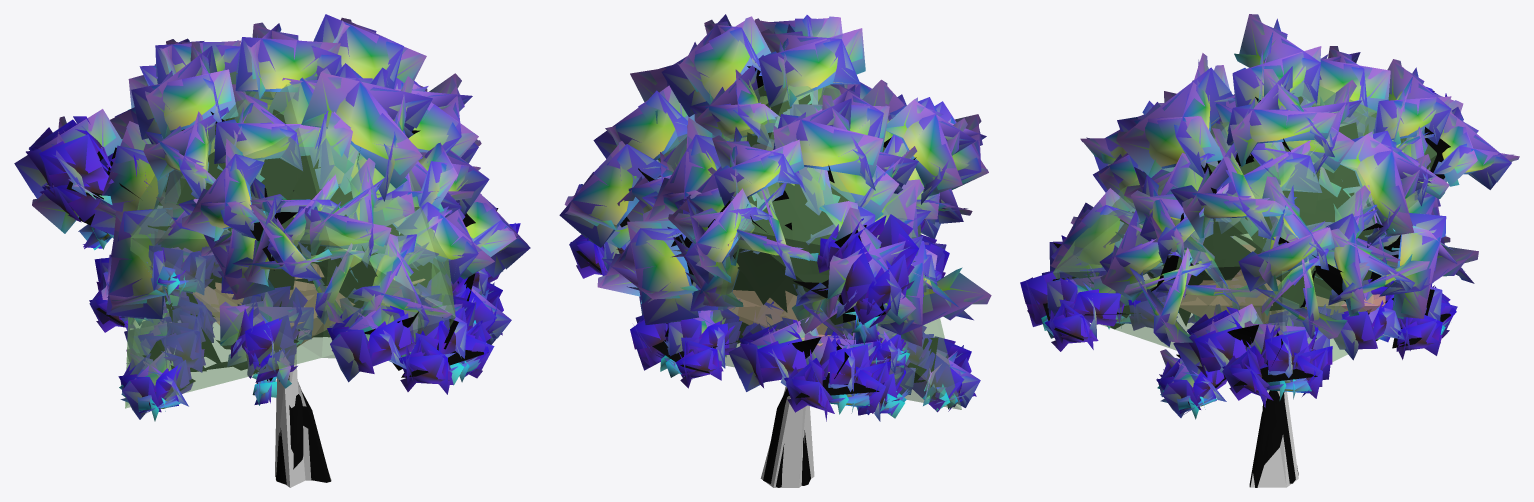
The model's file is cork_oak_large_1.dae.
3 renders of one model, left to right at view 1: azimuth 30°, elevation 25°; view 2: azimuth 150°, elevation 25°; view 3: azimuth 270°, elevation 25°, orthographic. The views are drawn at different scales.
Visible parts, largest first — view 1: cork_oak_large_1_a2000, cork_oak_large_1_a300, Colmesh-1; view 2: cork_oak_large_1_a2000, cork_oak_large_1_a300, Colmesh-1; view 3: cork_oak_large_1_a2000, cork_oak_large_1_a300, Colmesh-1.
Boxes of the visible parts, box(x1,y1,x2,y2) form: cork_oak_large_1_a2000: box(15, 15, 530, 484); cork_oak_large_1_a300: box(14, 14, 529, 473); Colmesh-1: box(125, 71, 455, 487); cork_oak_large_1_a2000: box(560, 15, 991, 485); cork_oak_large_1_a300: box(559, 14, 991, 487); Colmesh-1: box(657, 85, 961, 487); cork_oak_large_1_a2000: box(1021, 14, 1519, 487); cork_oak_large_1_a300: box(1020, 14, 1519, 482); Colmesh-1: box(1053, 82, 1436, 487).
Size of the model in its own units: 13.09 by 14.44 by 13.89.
